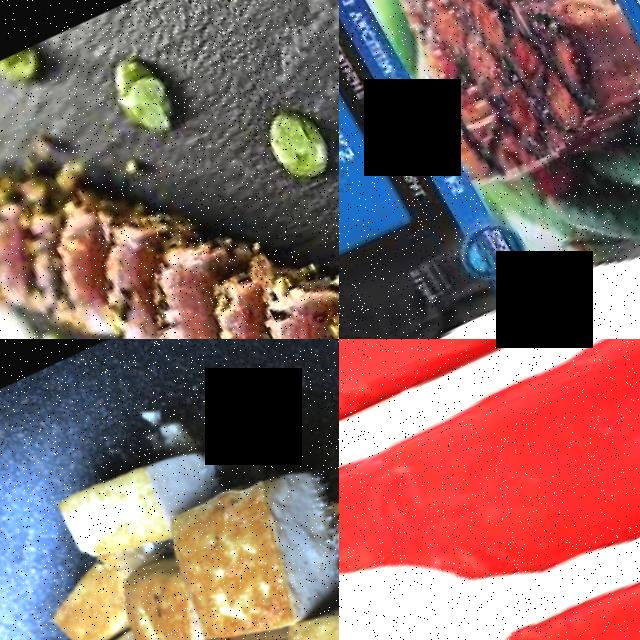tofu: (130, 428, 339, 640), (36, 424, 217, 572)
tuna: (339, 339, 640, 537)
